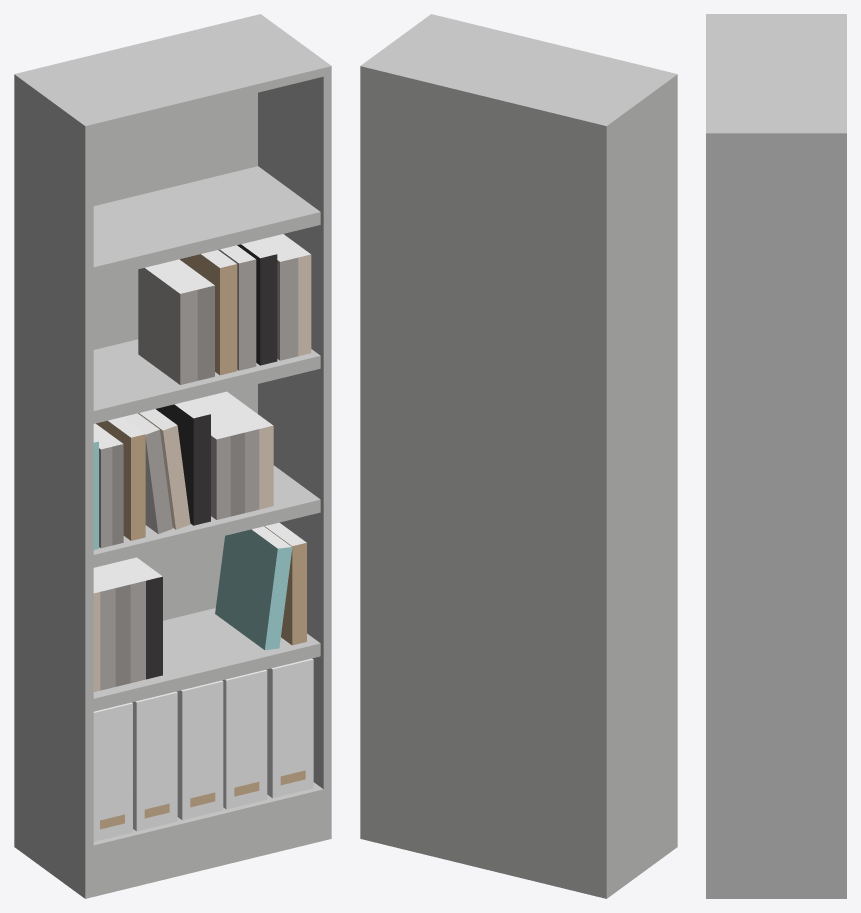
Rendered from furniture_library-modern-books.fbx.
The picture shows the model from 3 angles, left to right: view 1: azimuth 30°, elevation 25°; view 2: azimuth 150°, elevation 25°; view 3: azimuth 270°, elevation 25°; orthographic projection.
Visible parts, largest first — view 1: furniture_library_modern_books; view 2: furniture_library_modern_books; view 3: furniture_library_modern_books.
Part boxes in pixels (x1,y1,x2,y2): furniture_library_modern_books: (14,14,331,898); furniture_library_modern_books: (360,14,677,898); furniture_library_modern_books: (706,14,846,898).
Bounding box in the file's own units: 66.77 × 200 × 33.37.
